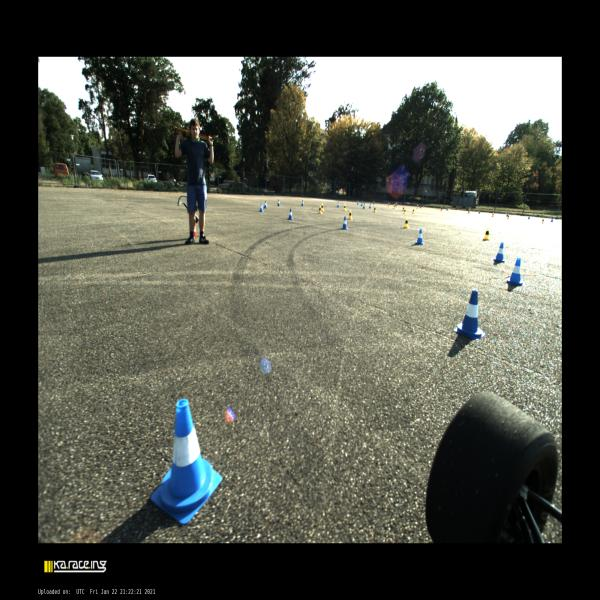blue_cone: (150, 400, 222, 524), (454, 290, 485, 339), (504, 257, 524, 286), (493, 242, 505, 262), (414, 228, 424, 244), (341, 216, 348, 230), (287, 209, 294, 220), (259, 203, 264, 212), (264, 201, 268, 208), (276, 199, 280, 206), (336, 202, 340, 207), (301, 200, 304, 206), (360, 201, 363, 206), (363, 203, 365, 209), (478, 210, 481, 214), (446, 207, 449, 211), (369, 203, 371, 208), (551, 217, 553, 222), (528, 215, 530, 220), (357, 200, 359, 205), (373, 200, 375, 205), (419, 205, 422, 208)
yellow_cone: (483, 227, 490, 241), (403, 218, 409, 227), (318, 205, 323, 214), (348, 210, 352, 219), (343, 204, 346, 211), (322, 203, 324, 211), (403, 209, 406, 214), (412, 209, 415, 214), (387, 202, 390, 207), (393, 204, 396, 209), (541, 218, 544, 223), (374, 206, 376, 212), (440, 206, 442, 212), (492, 212, 494, 217), (507, 214, 509, 219), (468, 209, 470, 214), (396, 203, 398, 207), (403, 206, 404, 211), (417, 205, 418, 209)
